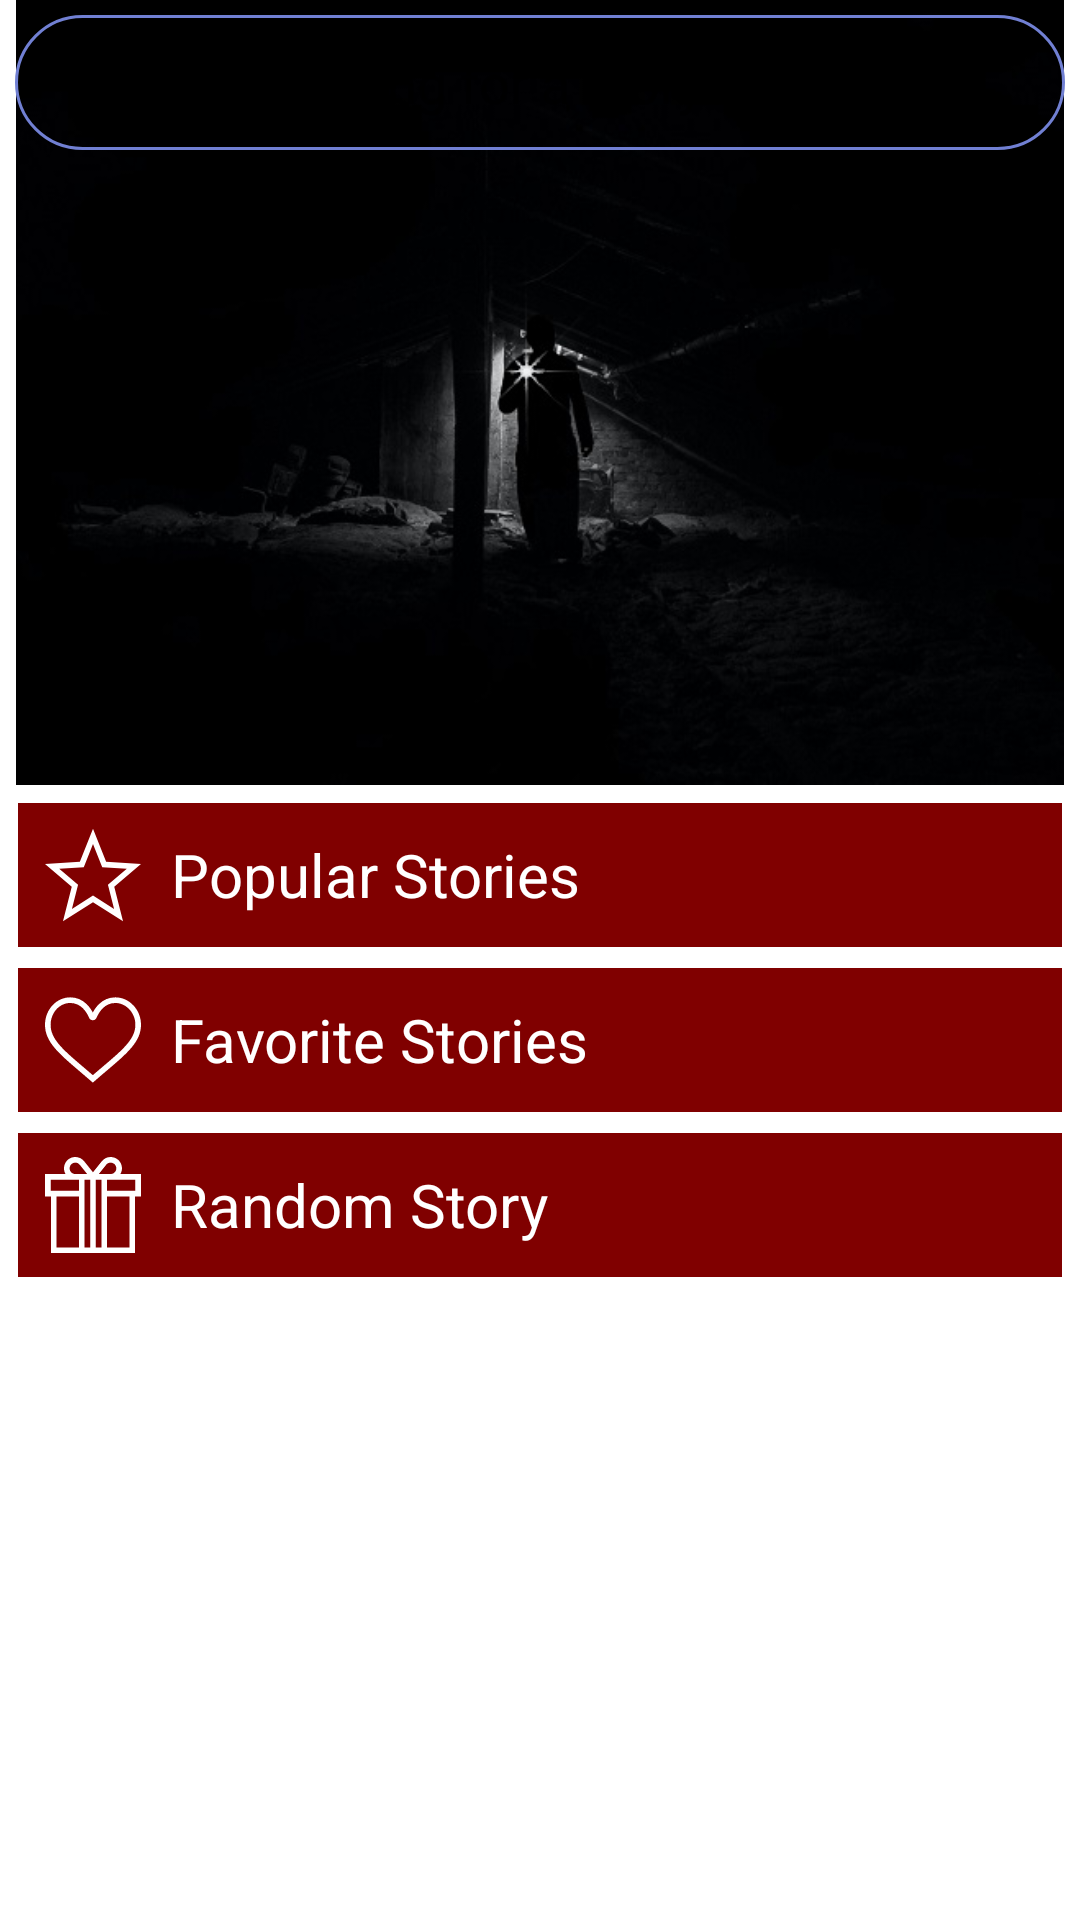

Where icons sit on this 1080 x 1920 app screen, as BBox(x1, y1, x2, y2):
favorite bwhite: BBox(45, 997, 141, 1083)
popular bwhite: BBox(45, 829, 141, 921)
